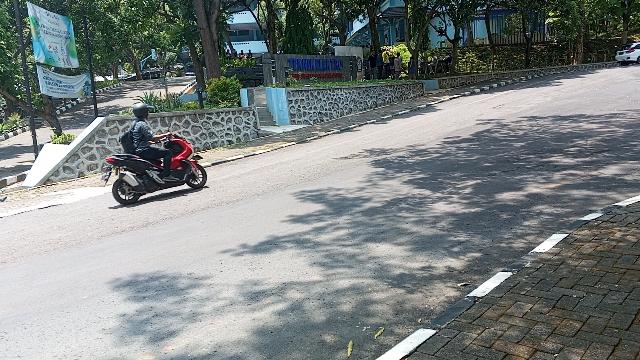helm: (134, 103, 157, 121)
motor: (100, 123, 210, 206)
